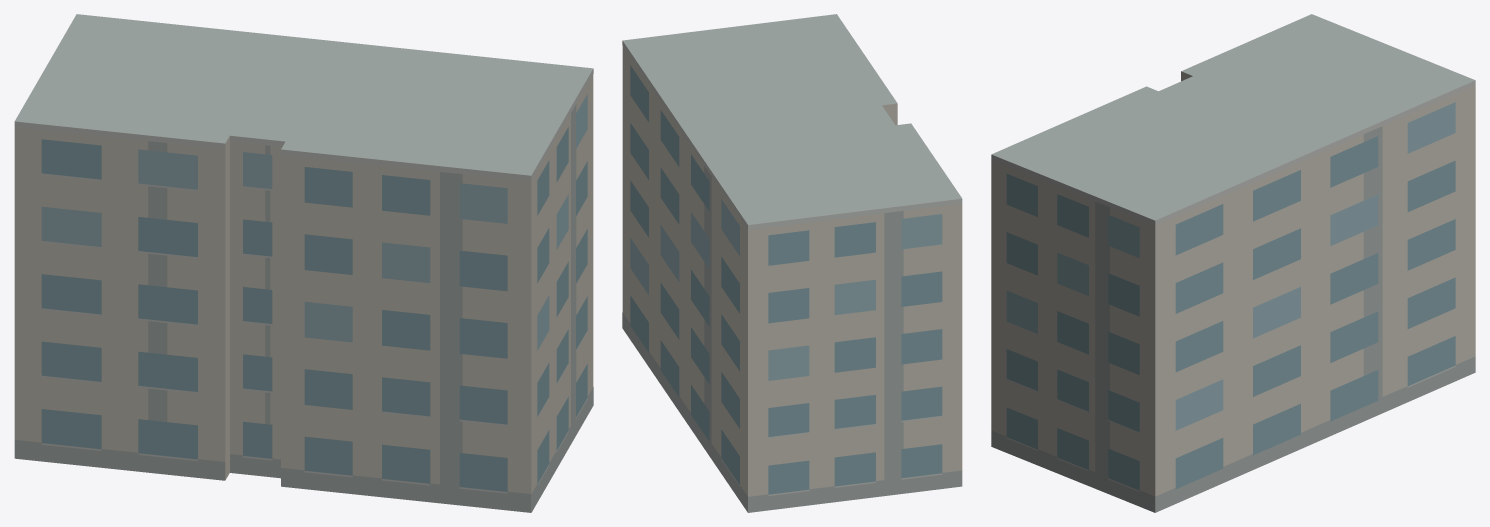
The model's file is survey-upis-32769059.glb.
3 views of the same model, side by side, from view 1: azimuth 30°, elevation 25°; view 2: azimuth 150°, elevation 25°; view 3: azimuth 270°, elevation 25° (orthographic). The views are drawn at different scales.
Parts seen in each view (by area): view 1: survey-upis-32769059.tmp; view 2: survey-upis-32769059.tmp; view 3: survey-upis-32769059.tmp.
Part boxes in pixels (x1,y1,x2,y2): survey-upis-32769059.tmp: [14, 14, 593, 512]; survey-upis-32769059.tmp: [622, 14, 962, 512]; survey-upis-32769059.tmp: [991, 14, 1475, 512].
Bounding box in the file's own units: 21.77 × 14.35 × 21.56.
